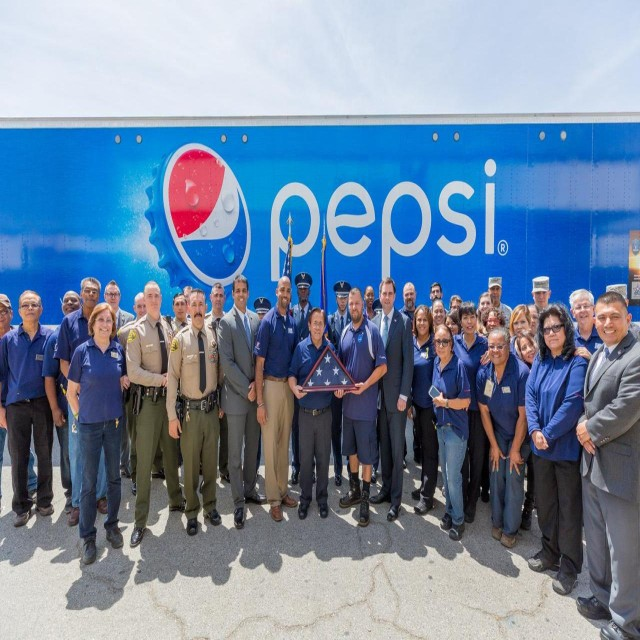pepsi: (161, 142, 250, 292)
